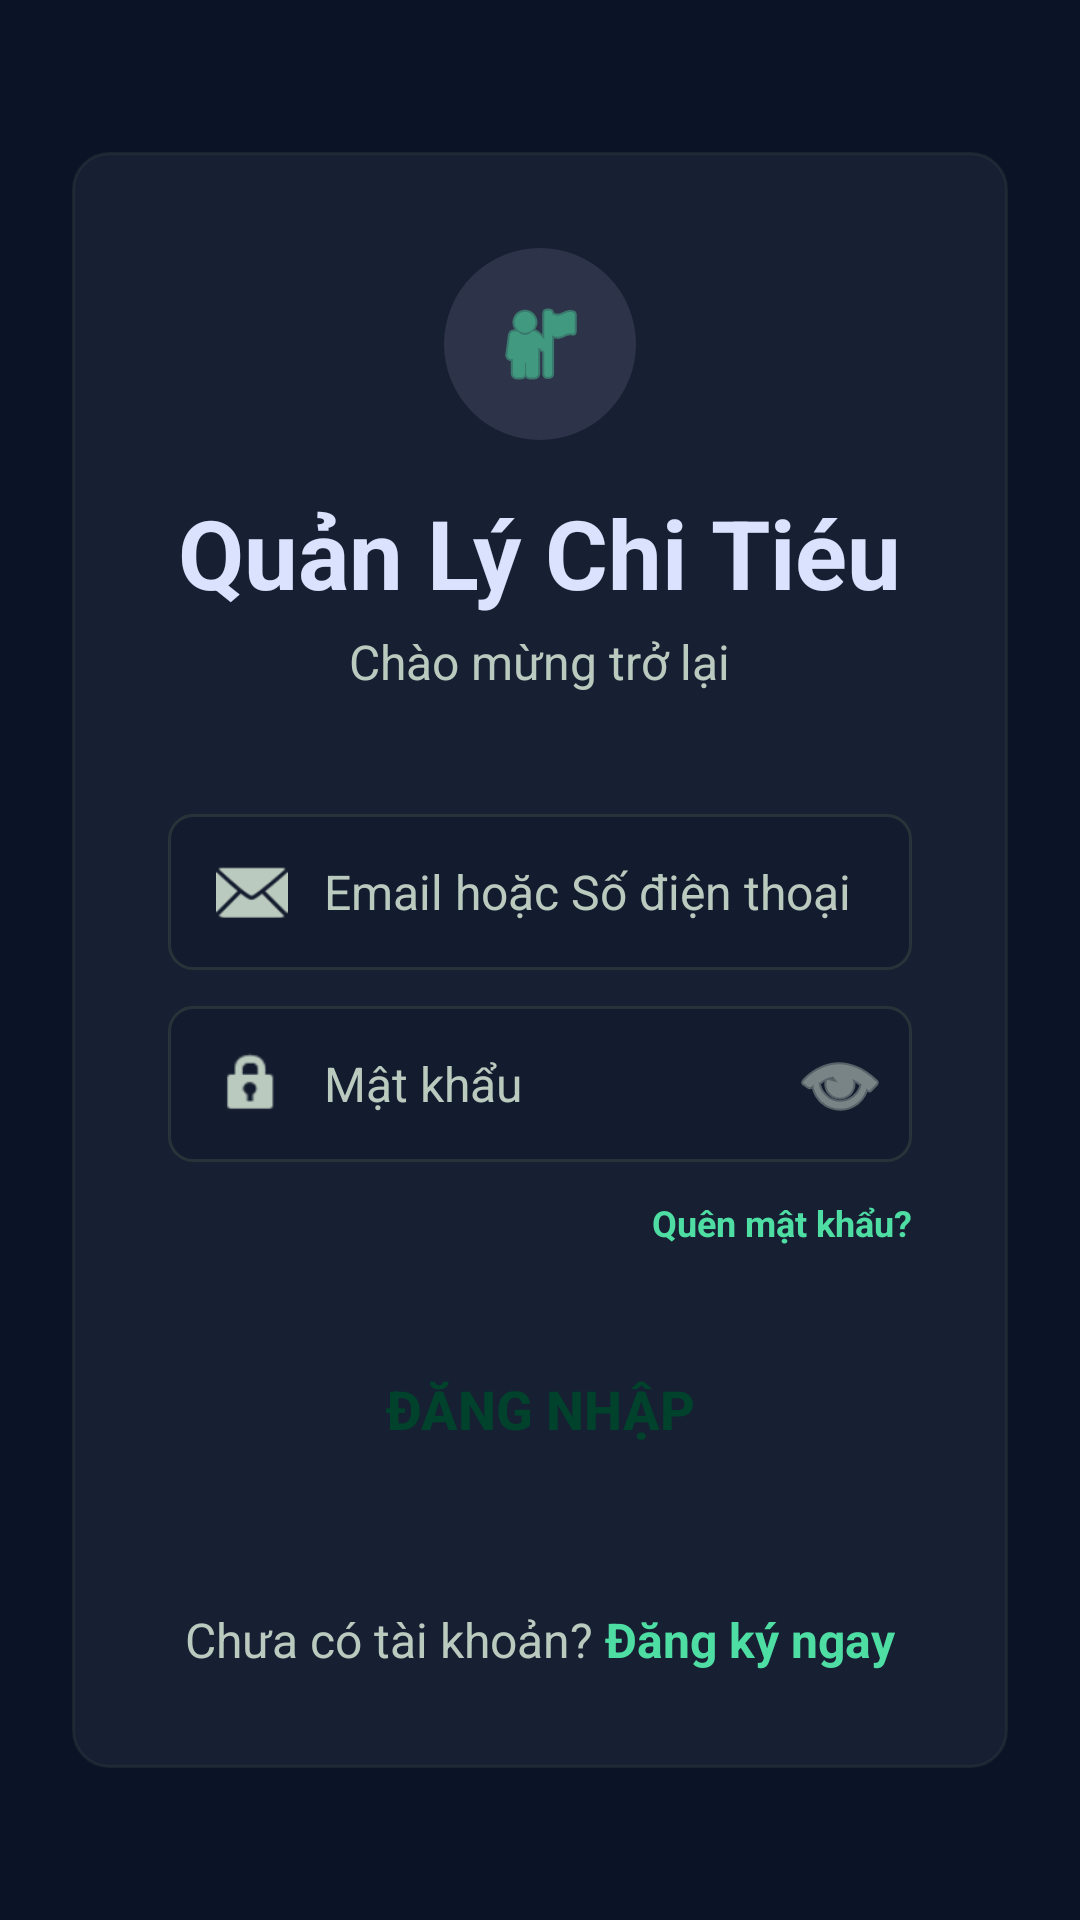

Icon bounding boxes for this 1080×1920 phone screenshot, format (x1, y1, x2, y2):
lock idle: (227, 1054, 274, 1109)
view: (801, 1062, 879, 1111)
